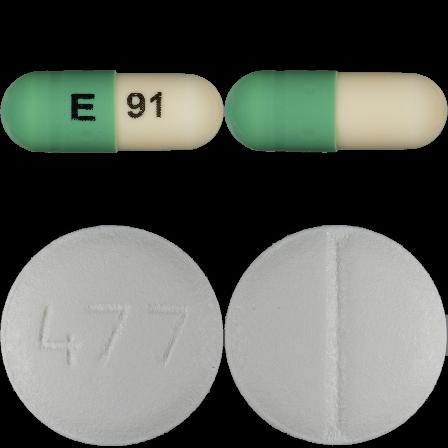51138-094: (0, 0, 224, 224)
